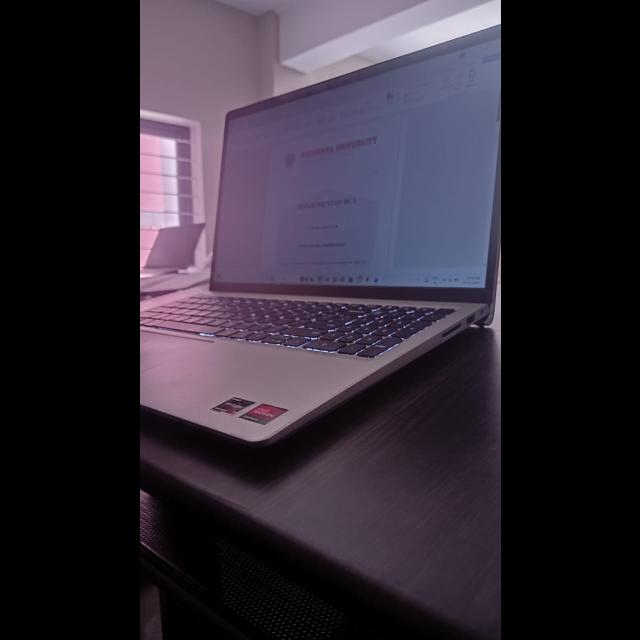laptop: (140, 19, 500, 479)
